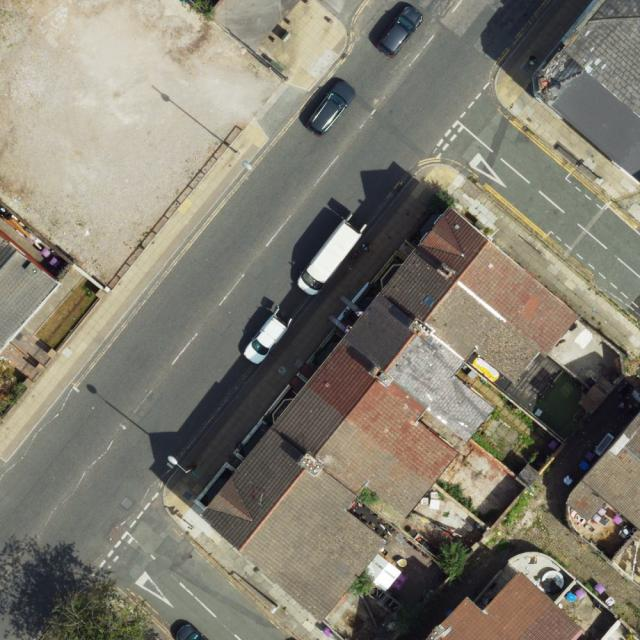roof: (202, 203, 576, 622), (534, 0, 640, 186), (429, 572, 584, 640), (0, 235, 61, 355)
skylight: (418, 291, 441, 311)
